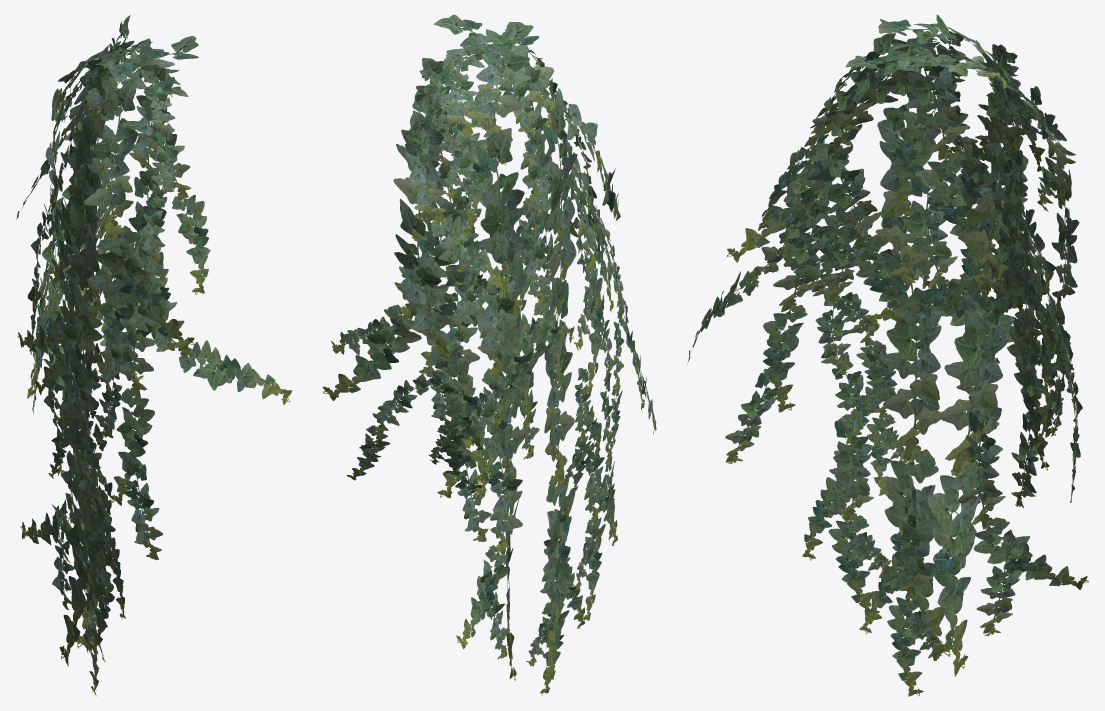
The model's file is sm_Ivy_01_05.fbx.
3 views of the same model, side by side, from view 1: azimuth 30°, elevation 25°; view 2: azimuth 150°, elevation 25°; view 3: azimuth 270°, elevation 25° (orthographic). The views are drawn at different scales.
Visible parts, largest first — view 1: sm_Ivy_01_05; view 2: sm_Ivy_01_05; view 3: sm_Ivy_01_05.
Boxes of the visible parts, x1,y1,x2,y2 form: sm_Ivy_01_05: (16,15,292,696); sm_Ivy_01_05: (323,14,656,695); sm_Ivy_01_05: (687,14,1088,696).
Size of the model in its own units: 77.53 by 125 by 237.
